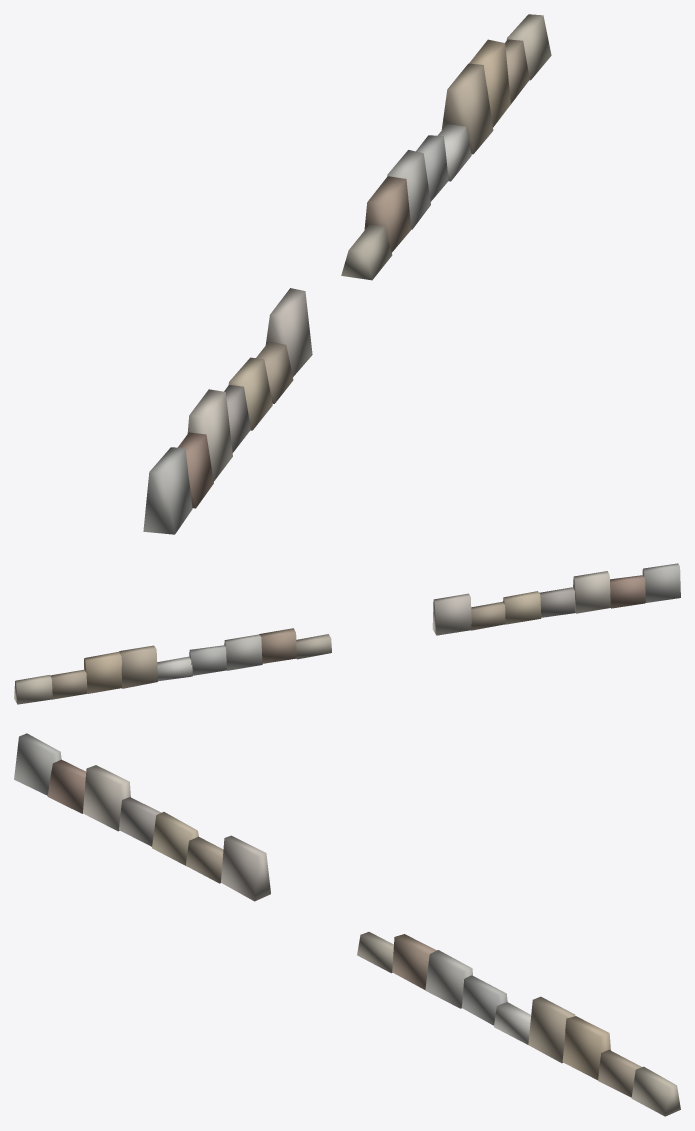
The model's file is farm_19_23_far.glb.
3 renders of one model, top to bottom at view 1: azimuth 30°, elevation 25°; view 2: azimuth 150°, elevation 25°; view 3: azimuth 270°, elevation 25°, orthographic. The views are drawn at different scales.
Visible parts, largest first — view 1: geometry_0; view 2: geometry_0; view 3: geometry_0.
Part boxes in pixels (box(x1,y1,x2,y2)): geometry_0: box(143, 14, 551, 534); geometry_0: box(14, 563, 680, 704); geometry_0: box(14, 733, 680, 1116).
Bounding box in the file's own units: 21.27 × 3.16 × 20.55.
